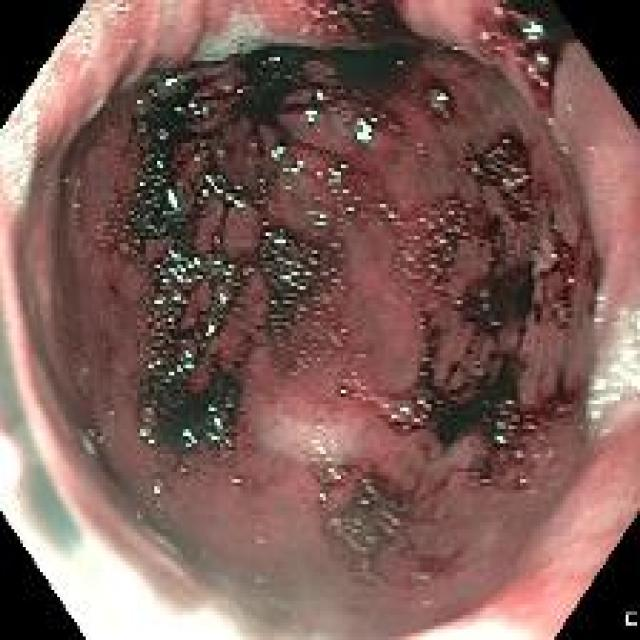blood: (129, 233, 250, 455), (120, 79, 218, 255), (246, 220, 339, 356), (414, 352, 531, 460), (315, 464, 414, 590), (298, 7, 430, 94), (479, 7, 577, 119), (229, 43, 305, 136), (456, 254, 540, 328)
bubbles: (137, 248, 257, 468), (254, 218, 371, 369), (302, 450, 404, 591), (116, 109, 209, 259), (378, 194, 465, 329), (0, 53, 64, 214), (476, 395, 574, 490), (188, 11, 313, 66), (333, 369, 435, 436), (588, 309, 639, 432), (467, 133, 536, 217), (64, 1, 102, 75), (92, 190, 118, 257), (588, 288, 604, 324)
color misalignment: (0, 286, 85, 606)
saturation: (0, 438, 85, 637), (82, 538, 244, 639), (399, 605, 538, 639), (603, 325, 638, 410)
specularity: (417, 205, 468, 276), (152, 248, 204, 290), (498, 160, 530, 197), (279, 258, 310, 294), (406, 394, 434, 428), (589, 376, 607, 424), (354, 112, 378, 145), (213, 255, 239, 284), (520, 18, 544, 44), (487, 134, 513, 157), (325, 159, 347, 181), (282, 157, 305, 177), (165, 185, 180, 212), (311, 438, 331, 458), (378, 201, 398, 221), (226, 192, 245, 211), (181, 429, 198, 450), (325, 464, 343, 482), (269, 142, 286, 161), (138, 429, 157, 446), (166, 363, 183, 381), (162, 74, 179, 90), (534, 53, 550, 68), (305, 107, 318, 125), (436, 90, 450, 105), (335, 384, 349, 399), (228, 475, 243, 489), (169, 290, 181, 307), (313, 90, 326, 105), (150, 484, 162, 500), (451, 297, 464, 311), (206, 321, 215, 340), (494, 432, 507, 445), (316, 490, 328, 504), (211, 416, 223, 430), (217, 292, 229, 306), (207, 429, 218, 444), (185, 99, 200, 110), (316, 445, 328, 458), (548, 249, 558, 264), (148, 359, 159, 372), (269, 53, 281, 64), (153, 294, 163, 307), (201, 105, 210, 119), (316, 210, 327, 221), (183, 362, 195, 372), (274, 236, 286, 246), (156, 158, 164, 172), (207, 405, 217, 414), (213, 186, 223, 195), (399, 404, 409, 411)
